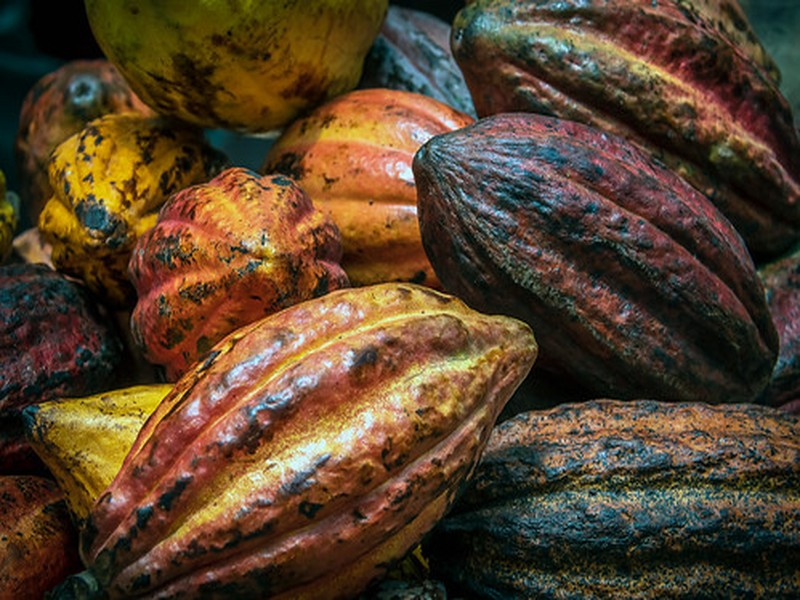Cacaopod: (77, 283, 538, 600)
